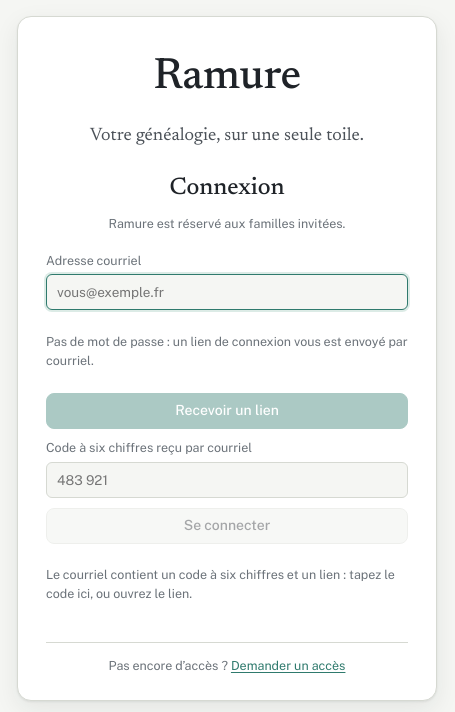
Test: Login › starts disabled without an address and enables once one is typed
Expected: the button "Recevoir un lien" is disabled, [46,393,408,429]
Type "me@example.org" into the field labelled "Adresse courriel".
click(227, 292); type("me@example.org")  # box [46,274,408,310]
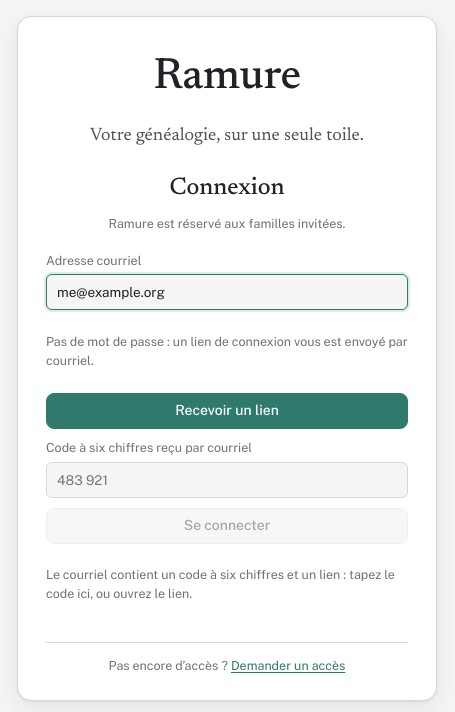
Expected: the button "Recevoir un lien" is enabled, [46,393,408,429]
